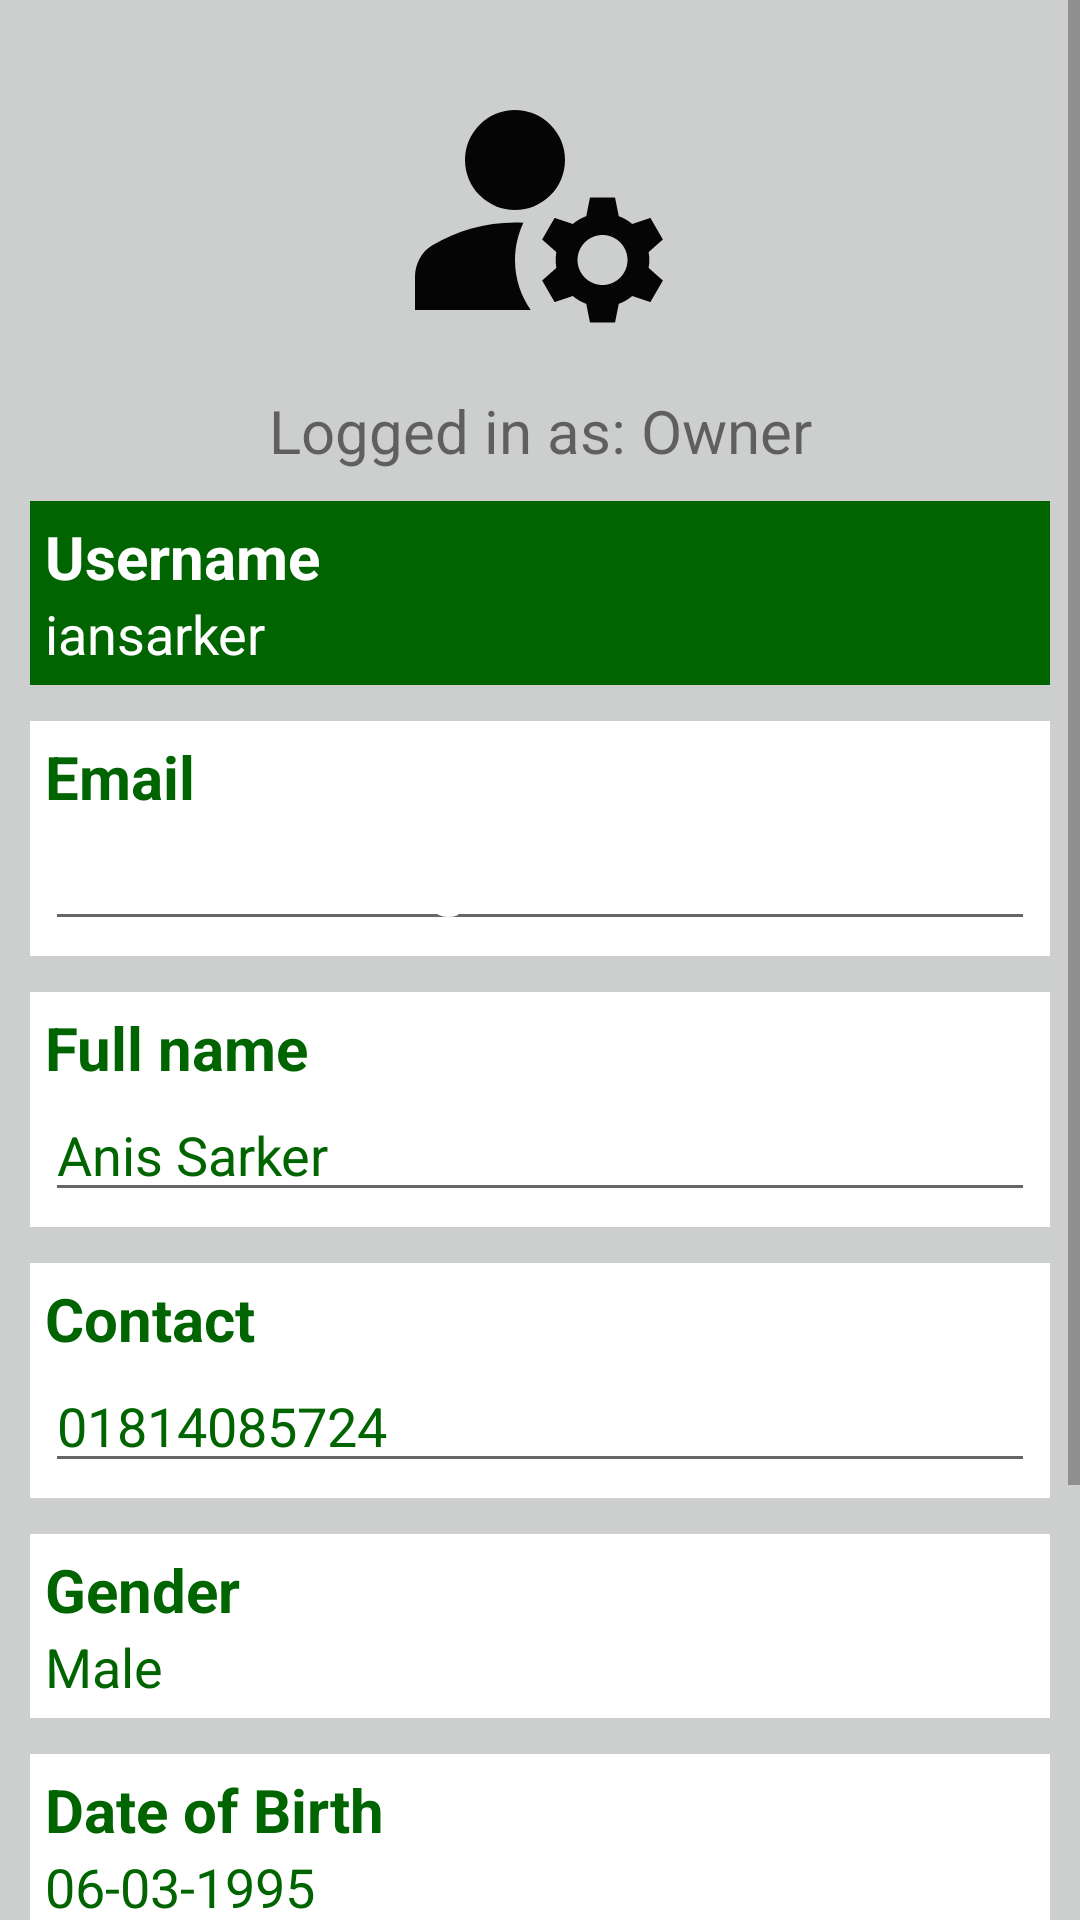

Named icons in this screenshot (1080 × 1920) and their bounding boxes, (x1, y1, x2, y2):
profile: (415, 110, 663, 323)
